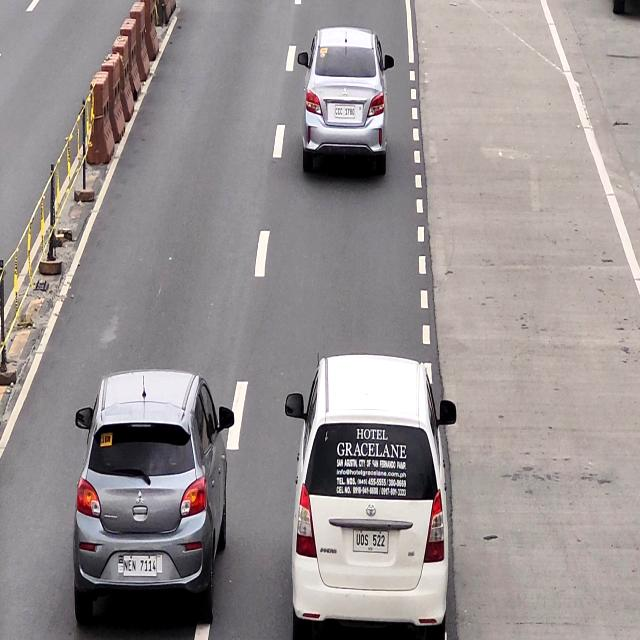Car: (292, 356, 452, 638), (78, 370, 226, 606), (302, 30, 386, 176)
License-Plate: (116, 552, 162, 579), (352, 529, 388, 555), (334, 101, 357, 119)
